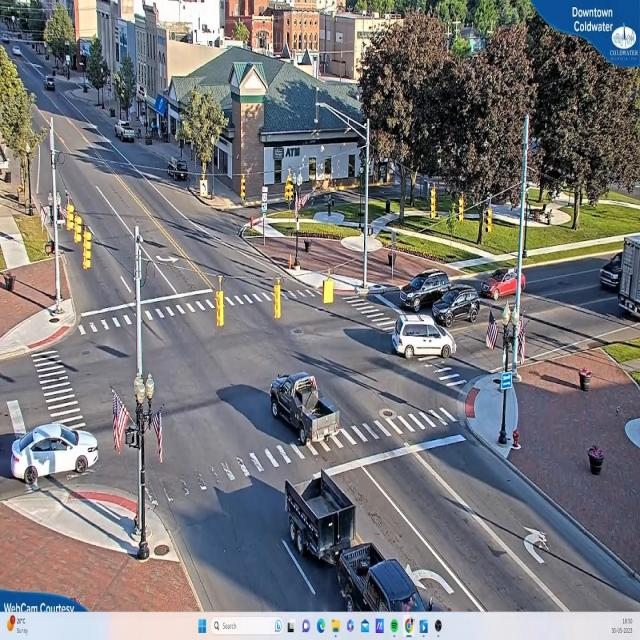car: (2, 422, 101, 487), (270, 370, 322, 440), (367, 558, 428, 611), (395, 321, 456, 362), (401, 272, 454, 312), (432, 290, 481, 326), (482, 270, 527, 304), (600, 254, 624, 292), (117, 122, 137, 142)
